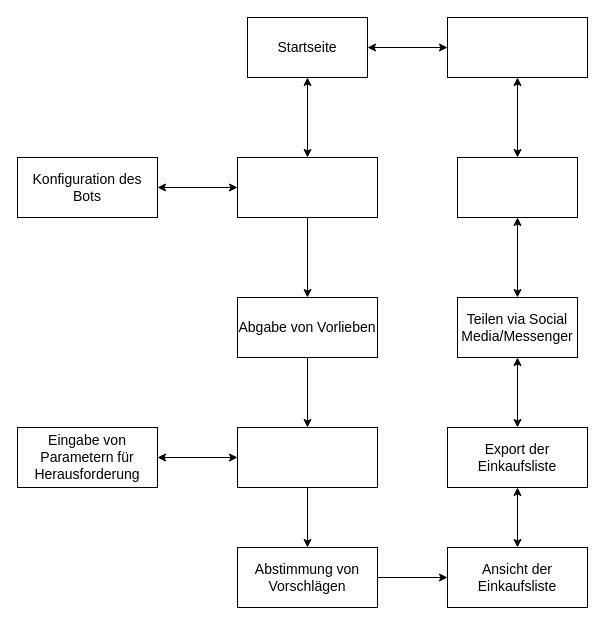
Some shapes in this 605 by 625 pixel diagram are drawn without their labels. The box of each missing label's shape, as (x1, y1, x2, y2) in pixels:
Alternative Vorschläge durch den Bot: (236, 426, 378, 488)
Information/Tipp: (456, 156, 578, 218)
Initiale Chatansicht: (236, 156, 378, 218)
Liste der Informationen/Tipps: (446, 16, 588, 78)
